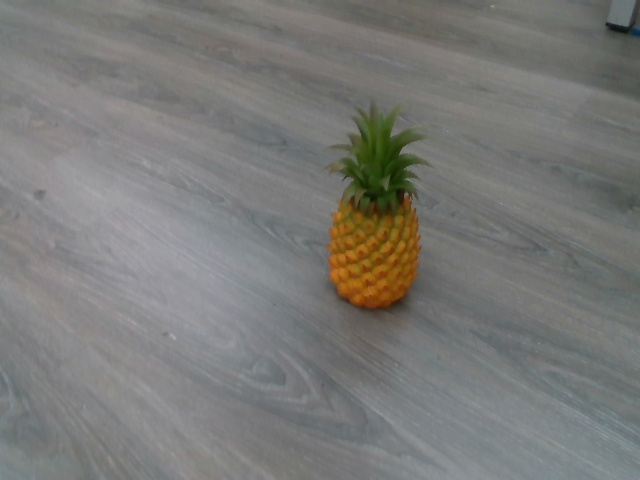pineapple: (320, 93, 438, 321)
